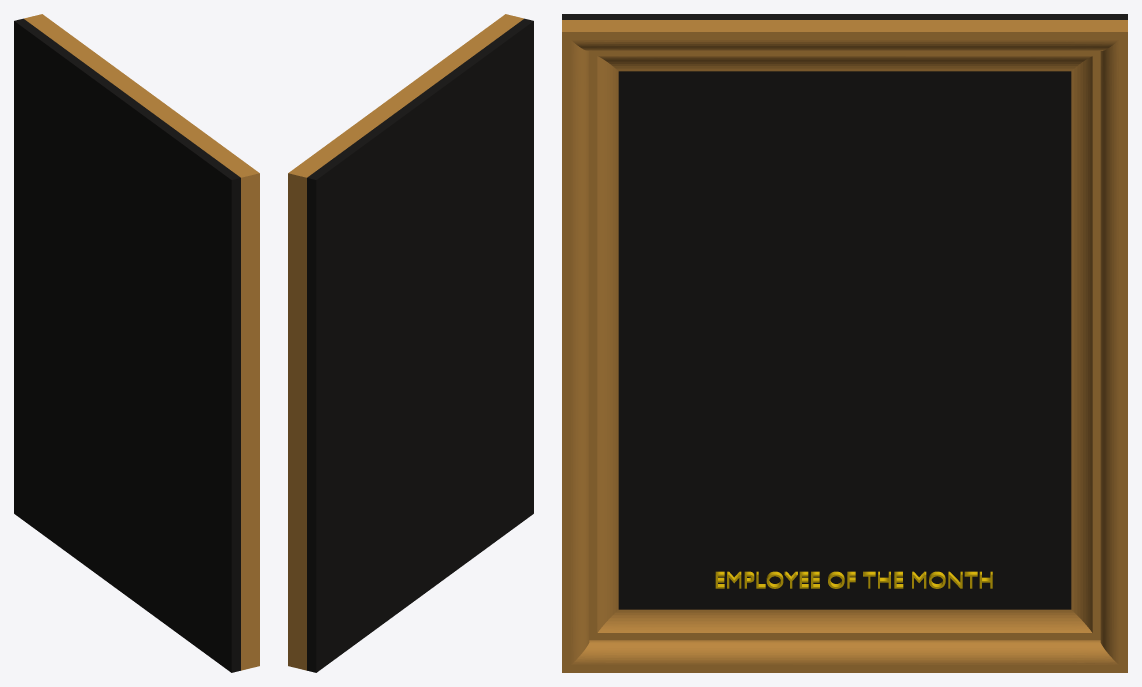
The model's file is pictureFrame.glb.
3 views of the same model, side by side, from view 1: azimuth 30°, elevation 25°; view 2: azimuth 150°, elevation 25°; view 3: azimuth 270°, elevation 25° (orthographic). The views are drawn at different scales.
Visible parts, largest first — view 1: frame.001_3; view 2: frame.001_3; view 3: frame.001_3.
Boxes of the visible parts, x1,y1,x2,y2 form: frame.001_3: (14,14,259,672); frame.001_3: (288,14,533,672); frame.001_3: (562,14,1127,672).
Bounding box in the file's own units: 0.15 × 2.5 × 2.
